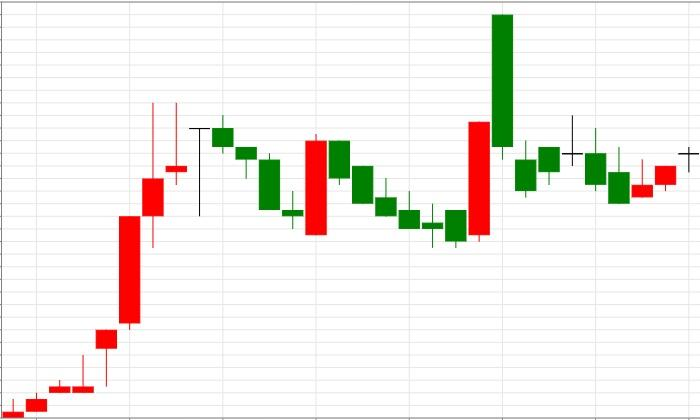bullish_engulfing_rise: (189, 115, 327, 236)
